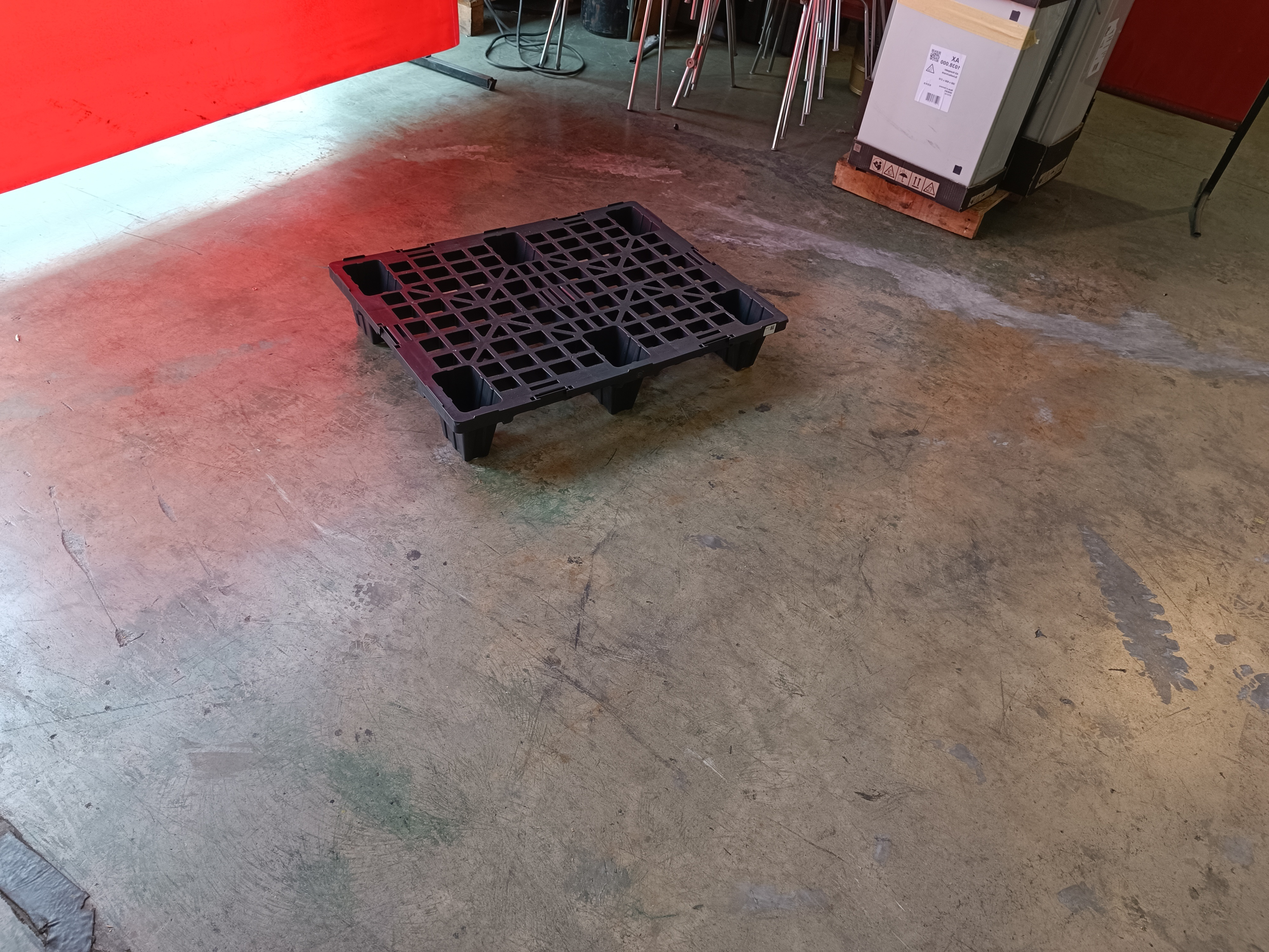block: (440, 395, 491, 468), (596, 369, 650, 423), (736, 322, 786, 372), (347, 291, 381, 348)
front: (462, 323, 788, 462)
hole pallet: (487, 379, 615, 459), (643, 341, 735, 402)
